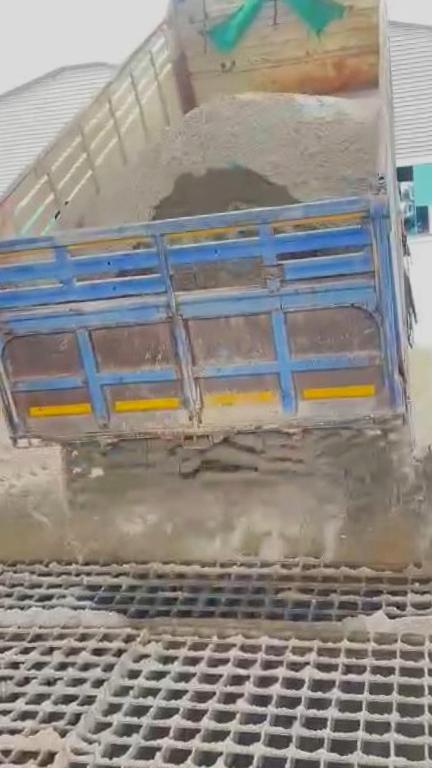sand: (0, 421, 432, 643), (68, 94, 378, 227), (1, 593, 130, 627), (6, 727, 64, 751)
